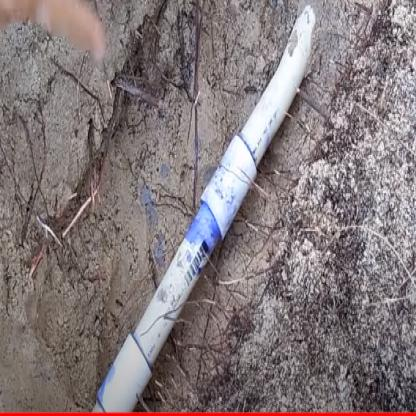PVC: (91, 0, 320, 414)
